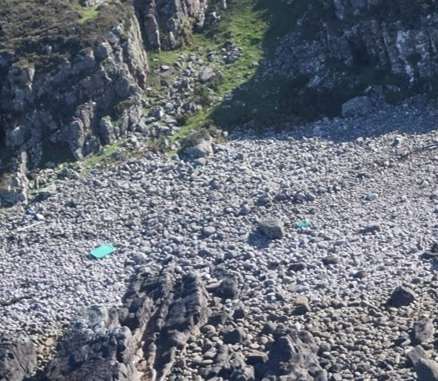white_in_green: (69, 219, 134, 280), (281, 203, 326, 246)
